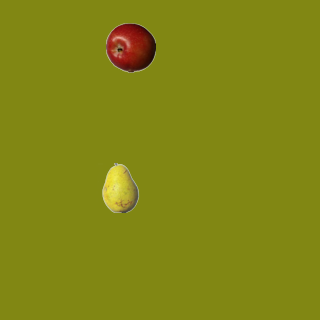Apple Braeburn: (105, 22, 155, 72)
Pear Monster: (95, 162, 145, 212)
